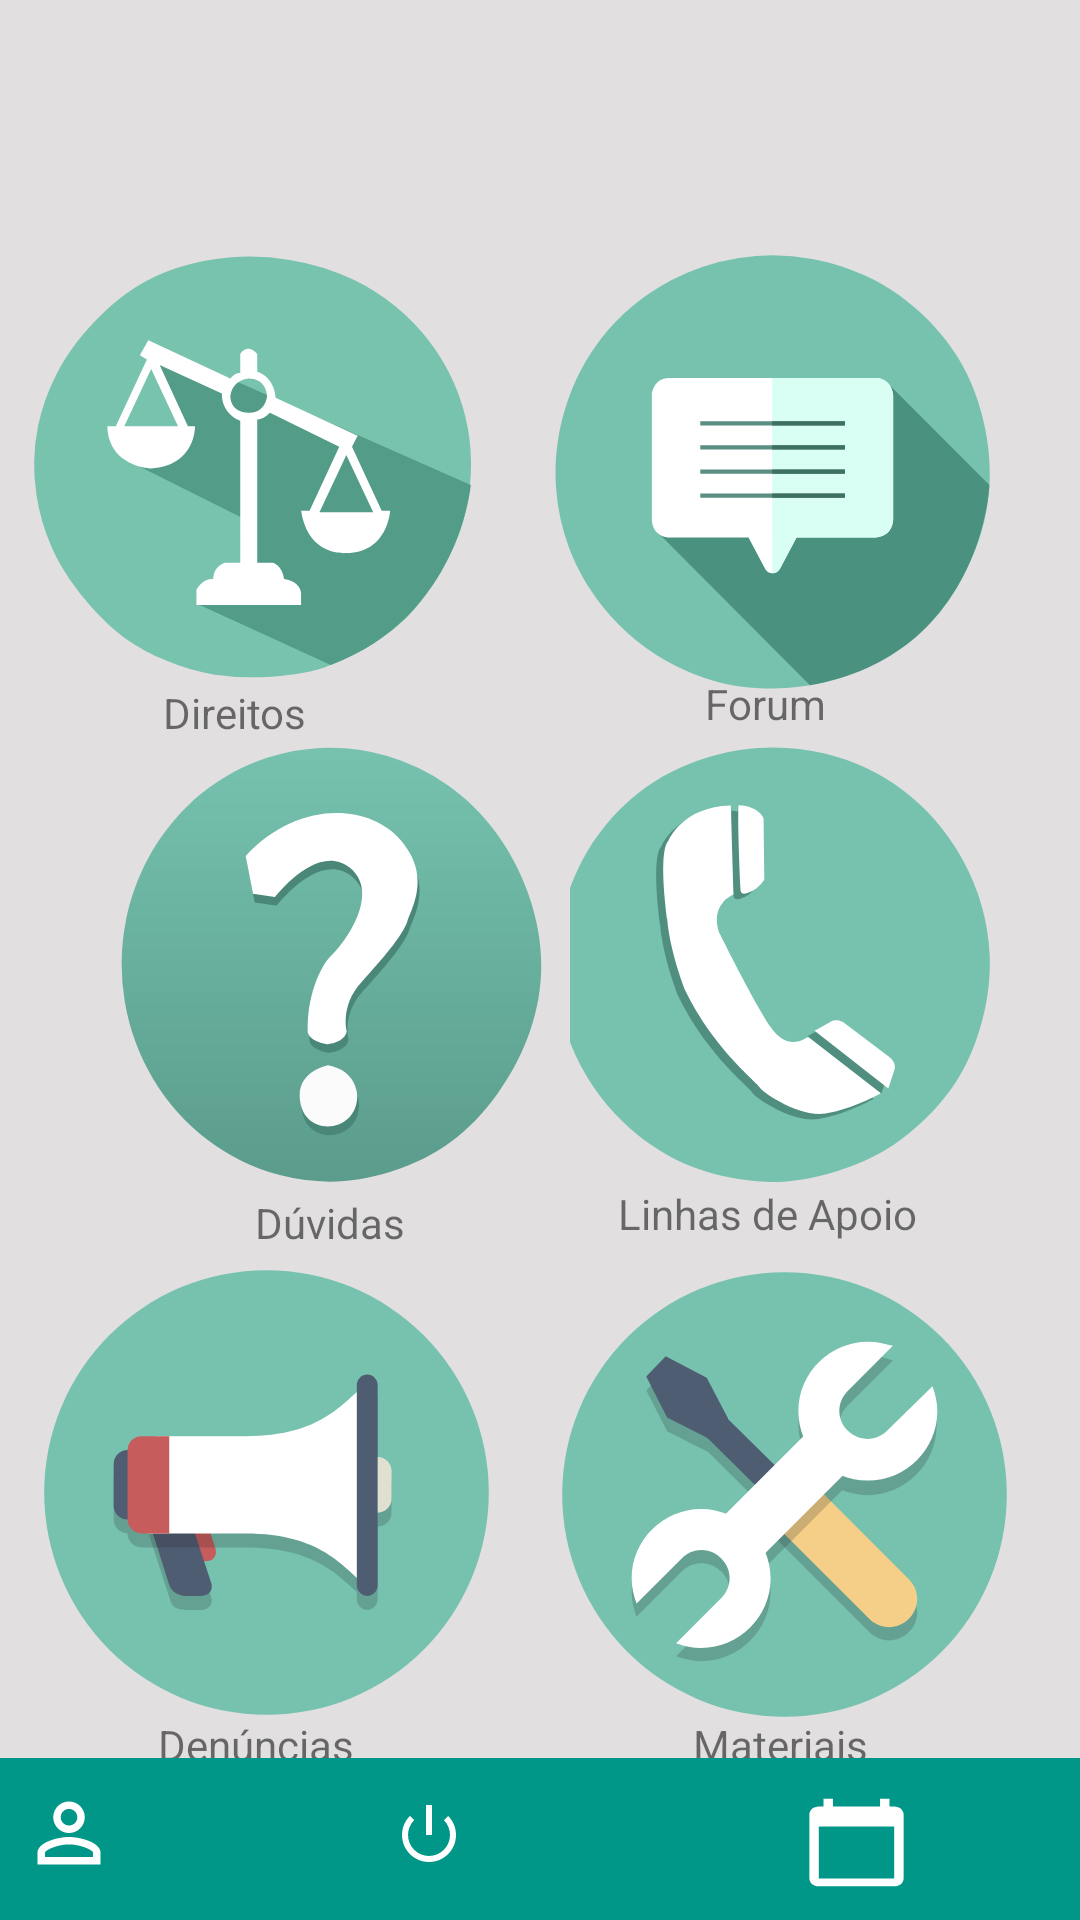

Screen size 1080px×1920px. Icon name, then its box in pixels as [x1, y1, x2, y2]:
calendario: [809, 1798, 904, 1887]
lock power off: [402, 1805, 456, 1862]
user: [37, 1801, 101, 1865]
